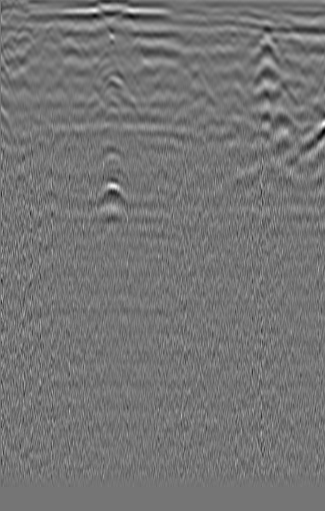가스: (93, 178, 131, 213)
상수: (10, 22, 38, 49)
오수: (274, 32, 312, 64)
우수: (127, 35, 147, 55)
